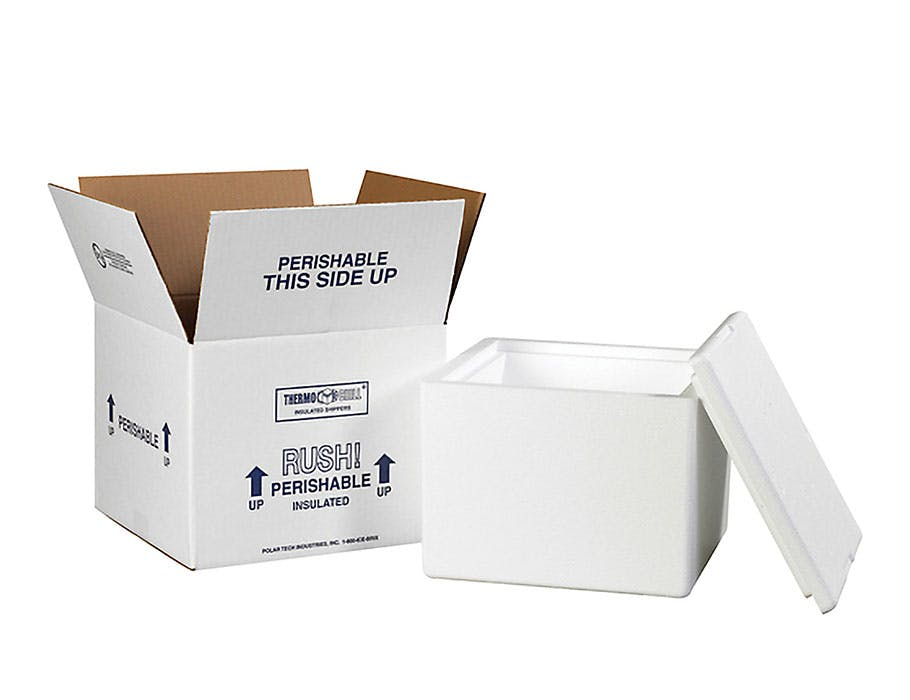泡沫箱: (420, 313, 860, 612)
